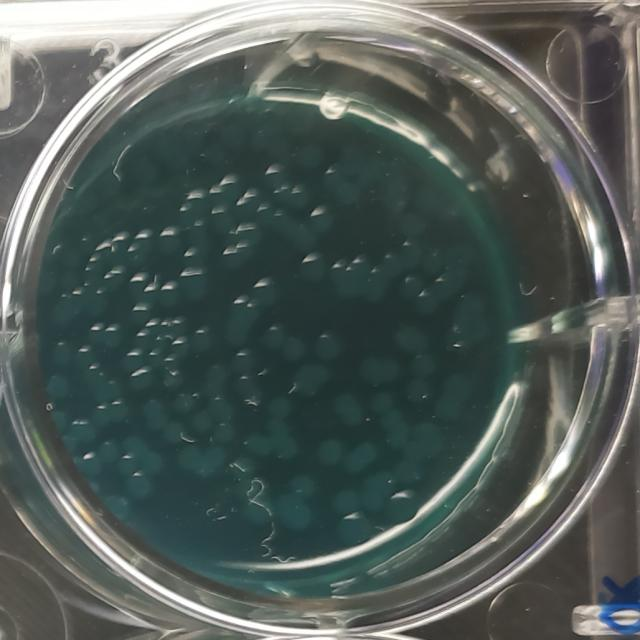other: (274, 472, 314, 532), (434, 370, 474, 426), (288, 361, 330, 398), (358, 353, 401, 388), (177, 266, 210, 304), (248, 276, 284, 310), (296, 250, 328, 288), (333, 392, 365, 430), (336, 511, 370, 544), (308, 206, 340, 238), (142, 399, 170, 432), (278, 338, 308, 368), (124, 471, 152, 503), (314, 332, 343, 362), (42, 373, 72, 402), (156, 226, 184, 255), (316, 435, 343, 465), (263, 162, 291, 190), (332, 488, 359, 516), (265, 394, 293, 420), (129, 366, 156, 392), (230, 454, 256, 481), (218, 174, 244, 201), (261, 324, 286, 352), (157, 281, 182, 309), (160, 420, 186, 446), (212, 420, 236, 447), (128, 301, 152, 327), (189, 325, 212, 352), (401, 275, 424, 302), (120, 349, 144, 373), (100, 324, 123, 349), (96, 440, 118, 466), (172, 391, 195, 415)
